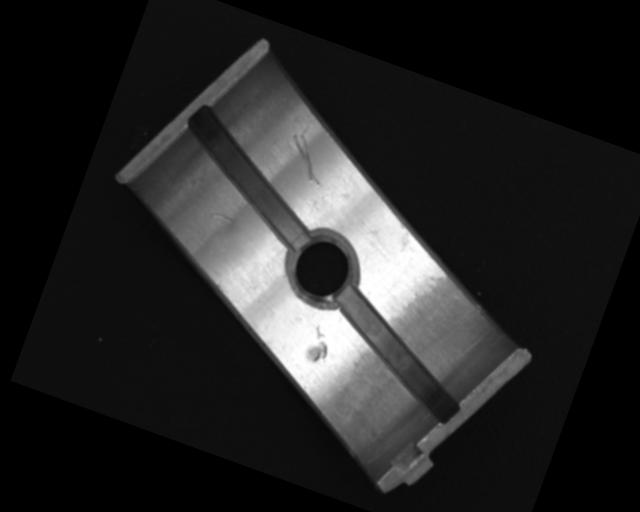bruise: (303, 323, 335, 367)
gap: (158, 101, 337, 251), (313, 283, 484, 425)
hole: (274, 224, 365, 314)
nick: (278, 130, 334, 189), (211, 210, 238, 224)
